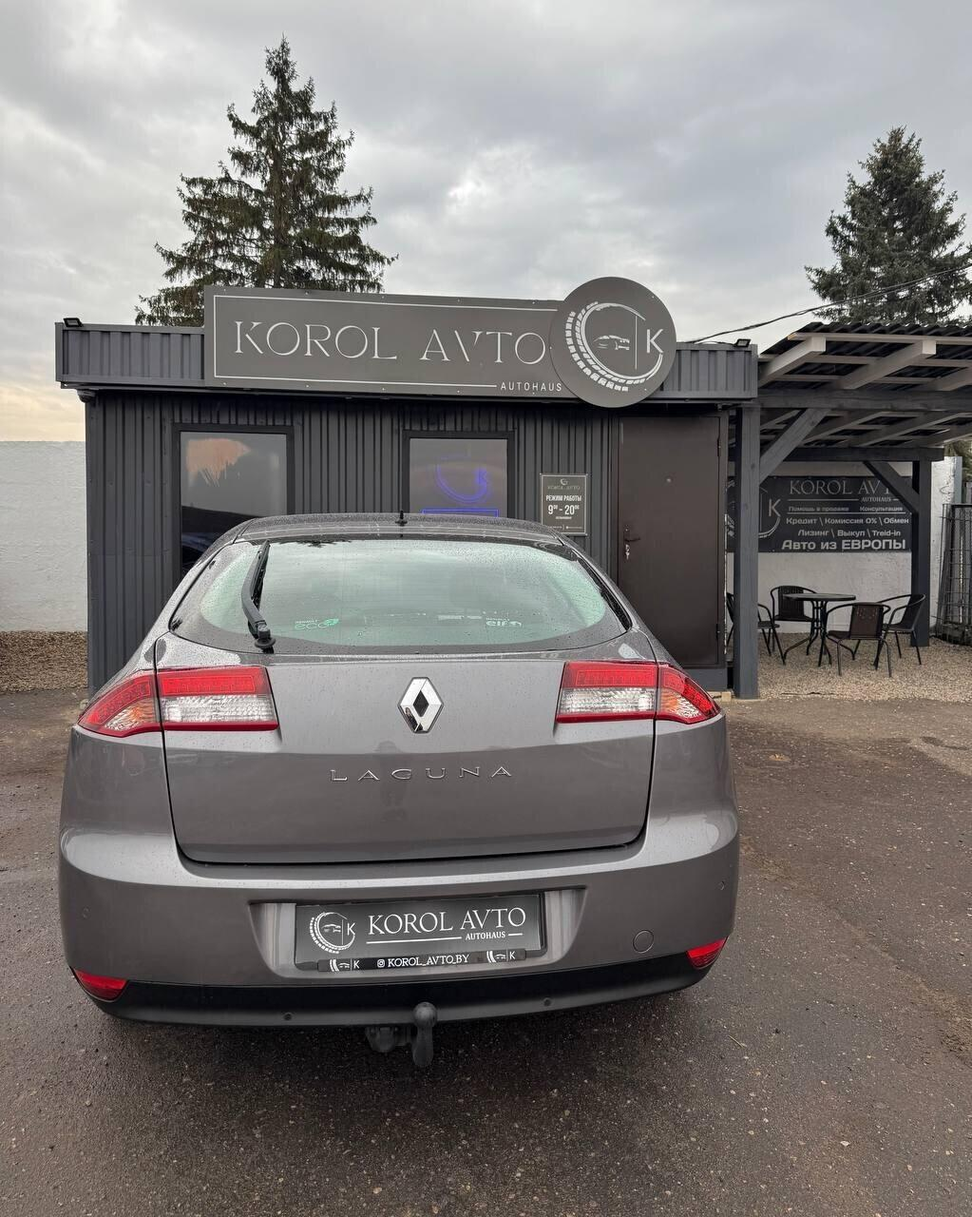Laguna_2010-2015: (43, 502, 747, 1079)
